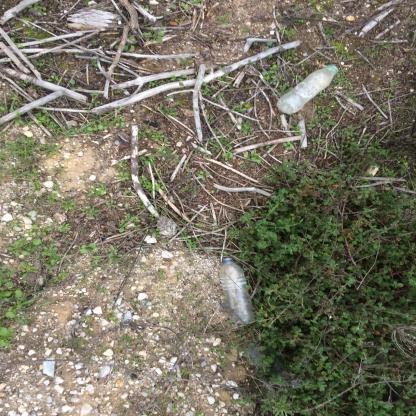plastik: (277, 66, 340, 116), (220, 258, 259, 325)
